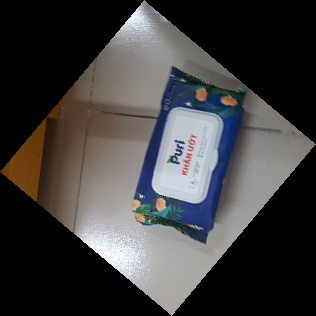Puri Xanh: (132, 65, 248, 247)
